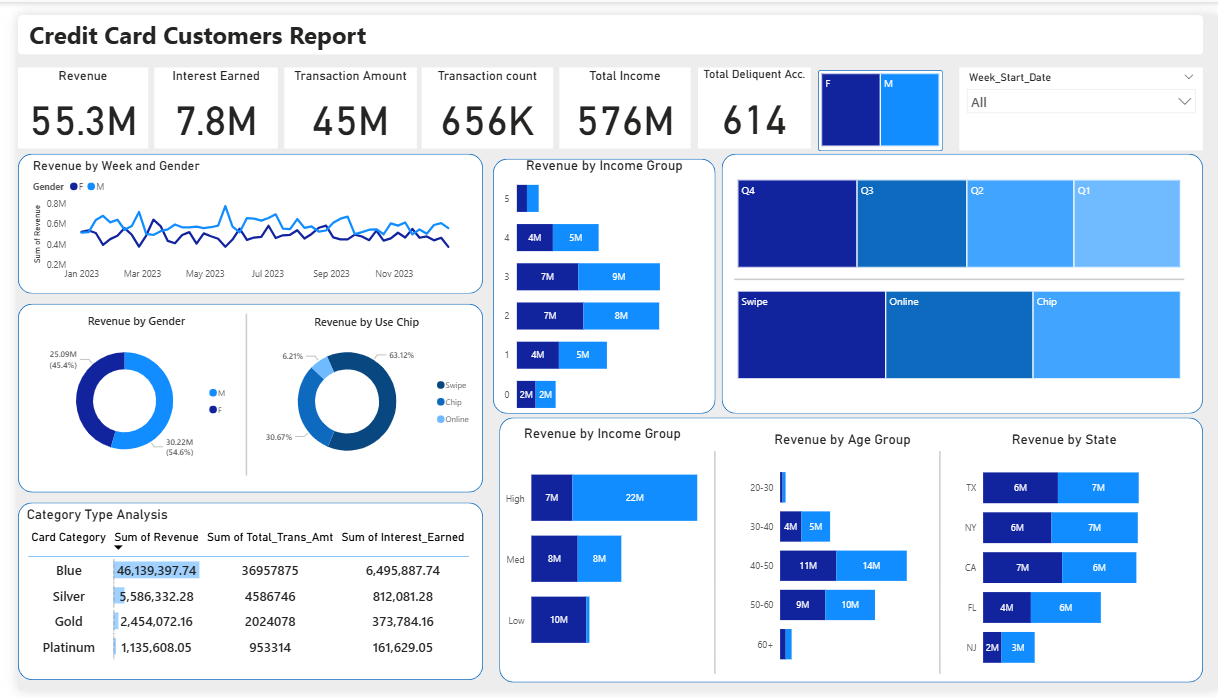

What the dashboard file says about the page in this screenshot:
{"tool":"powerbi","page":{"name":"CC Customers","canvas":[1600,900],"ordinal":1},"visuals":[{"type":"shape","box":[1066.7,73.3,166.7,108.3],"z":0},{"type":"shape","box":[633.3,191,296.7,340],"z":1000},{"type":"shape","box":[641.7,536.7,938.3,353.3],"z":2000},{"type":"shape","box":[0,185,620,186.7],"z":3000},{"type":"shape","box":[0,0,1580,52.9],"z":4000},{"type":"shape","box":[0,650,620,236.7],"z":5000},{"type":"shape","box":[0,385,620,251.7],"z":6000},{"type":"textbox","box":[10,0,497.1,52.9],"z":7000},{"type":"tableEx","title":"Category Type Analysis","fields":{"Values":["public cc_detail.Card_Category","Sum(public cc_detail.Revenue)","Sum(public cc_detail.Total_Trans_Amt)","Sum(public cc_detail.Interest_Earned)"]},"box":[6.7,655,605,223.3],"z":8000},{"type":"card","title":"Revenue","fields":{"Values":["Sum(public cc_detail.Revenue)"]},"box":[0,70,173.3,108.3],"z":9000},{"type":"card","title":"Transaction count","fields":{"Values":["Sum(public cc_detail.Total_Trans_Vol)"]},"box":[539,70,175,108.3],"z":10000},{"type":"card","title":"Transaction Amount","fields":{"Values":["Sum(public cc_detail.Total_Trans_Amt)"]},"box":[355,70,176.7,108.3],"z":11000},{"type":"card","title":"Interest Earned","fields":{"Values":["Sum(public cc_detail.Interest_Earned)"]},"box":[182,70,165,108.3],"z":12000},{"type":"donutChart","title":"Revenue by Gender","fields":{"Category":["public cust_detail.Gender"],"Y":["Sum(public cc_detail.Revenue)"]},"box":[25.7,397.1,265.7,215.7],"z":13000},{"type":"donutChart","title":"Revenue by Use Chip","fields":{"Category":["public cc_detail.Use Chip"],"Y":["Sum(public cc_detail.Revenue)"]},"box":[315.7,398.6,300,214.3],"z":14000},{"type":"shape","box":[281.4,398.6,45.7,215.7],"z":15000},{"type":"card","title":"Total Income","fields":{"Values":["Sum(public cust_detail.Income)"]},"box":[722,70,175,108.3],"z":16000},{"type":"lineChart","title":"Revenue by Week and Gender","fields":{"Y":["Sum(public cc_detail.Revenue)"],"Series":["public cust_detail.Gender"],"Category":["public cc_detail.Week_Start_Date"]},"box":[15,190,590,173.3],"z":17000},{"type":"slicer","fields":{"Values":["public cc_detail.Week_Start_Date"]},"box":[1255,70,325,110],"z":18000},{"type":"barChart","title":"Revenue by Income Group","fields":{"Category":["public cust_detail.IncomeGroup"],"Y":["Sum(public cc_detail.Revenue)"],"Series":["public cust_detail.Gender"]},"box":[641.7,546.7,275,331.7],"z":19000},{"type":"barChart","title":"Revenue by Age Group","fields":{"Y":["Sum(public cc_detail.Revenue)"],"Category":["public cust_detail.AgeGroup"],"Series":["public cust_detail.Gender"]},"box":[968.3,555,261.7,331.7],"z":20000},{"type":"barChart","title":"Revenue by Income Group","fields":{"Category":["public cust_detail.Dependent_Count"],"Y":["Sum(public cc_detail.Revenue)"],"Series":["public cust_detail.Gender"]},"box":[643.3,190,276.7,350],"z":21000},{"type":"barChart","title":"Revenue by State","fields":{"Category":["public cust_detail.state_cd"],"Y":["Sum(public cc_detail.Revenue)"],"Series":["public cust_detail.Gender"]},"box":[1255,555,280,336.7],"z":22000},{"type":"shape","box":[938.3,185,641.7,346.7],"z":23000},{"type":"treemap","fields":{"Group":["public cc_detail.Qtr"],"Values":["Avg(public cc_detail.Client_Num)"]},"box":[955,215,600,126.7],"z":24000},{"type":"treemap","fields":{"Values":["Avg(public cc_detail.Client_Num)"],"Group":["public cust_detail.Gender"]},"box":[1067,73.3,166.7,106.7],"z":25000},{"type":"treemap","fields":{"Values":["Avg(public cc_detail.Client_Num)"],"Group":["public cc_detail.Use Chip"]},"box":[955,363.3,600,126.7],"z":26000},{"type":"shape","box":[906.7,581.7,45,296.7],"z":27000},{"type":"shape","box":[1206.7,581.7,45,296.7],"z":28000},{"type":"shape","box":[955,341.7,600,21.7],"z":29000},{"type":"card","title":"Total Deliquent Acc.","fields":{"Values":["Sum(public cc_detail.Delinquent_Acc)"]},"box":[906.7,70,150,108.3],"z":30000}]}

Visuals, with their boxes in screenshot pixels (x1, y1, x2, y2), scaled from the page's 1600x900 canvas onto the 1218x698 screenshot:
shape: [812,57,939,141]
shape: [482,148,708,412]
shape: [488,416,1203,690]
shape: [0,143,472,288]
shape: [0,0,1203,41]
shape: [0,504,472,688]
shape: [0,299,472,494]
textbox: [8,0,386,41]
"Category Type Analysis" tableEx: [5,508,466,681]
"Revenue" card: [0,54,132,138]
"Transaction count" card: [410,54,544,138]
"Transaction Amount" card: [270,54,405,138]
"Interest Earned" card: [139,54,264,138]
"Revenue by Gender" donutChart: [20,308,222,475]
"Revenue by Use Chip" donutChart: [240,309,469,475]
shape: [214,309,249,476]
"Total Income" card: [550,54,683,138]
"Revenue by Week and Gender" lineChart: [11,147,461,282]
slicer - public cc_detail.Week_Start_Date: [955,54,1203,140]
"Revenue by Income Group" barChart: [488,424,698,681]
"Revenue by Age Group" barChart: [737,430,936,688]
"Revenue by Income Group" barChart: [490,147,700,419]
"Revenue by State" barChart: [955,430,1169,692]
shape: [714,143,1203,412]
treemap - public cc_detail.Qtr x Avg(public cc_detail.Client_Num): [727,167,1184,265]
treemap - Avg(public cc_detail.Client_Num) x public cust_detail.Gender: [812,57,939,140]
treemap - Avg(public cc_detail.Client_Num) x public cc_detail.Use Chip: [727,282,1184,380]
shape: [690,451,724,681]
shape: [919,451,953,681]
shape: [727,265,1184,282]
"Total Deliquent Acc." card: [690,54,804,138]
